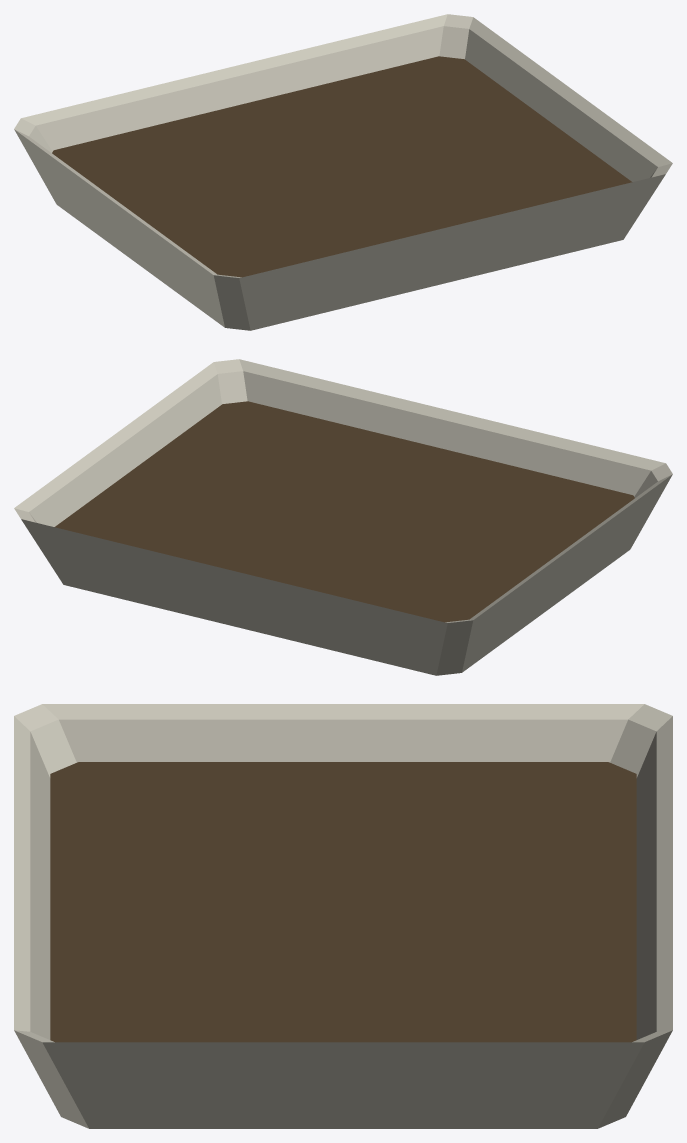
Rendered from dr_tray.glb.
3 renders of one model, top to bottom at view 1: azimuth 30°, elevation 25°; view 2: azimuth 150°, elevation 25°; view 3: azimuth 270°, elevation 25°, orthographic. The views are drawn at different scales.
Visible parts, largest first — view 1: dr_tray; view 2: dr_tray; view 3: dr_tray.
Part boxes in pixels (left/top/right/bottom): dr_tray: left=14, top=14, right=672, bottom=330; dr_tray: left=14, top=359, right=672, bottom=675; dr_tray: left=14, top=704, right=672, bottom=1128.
Size of the model in its own units: 0.34 by 0.05 by 0.28.
